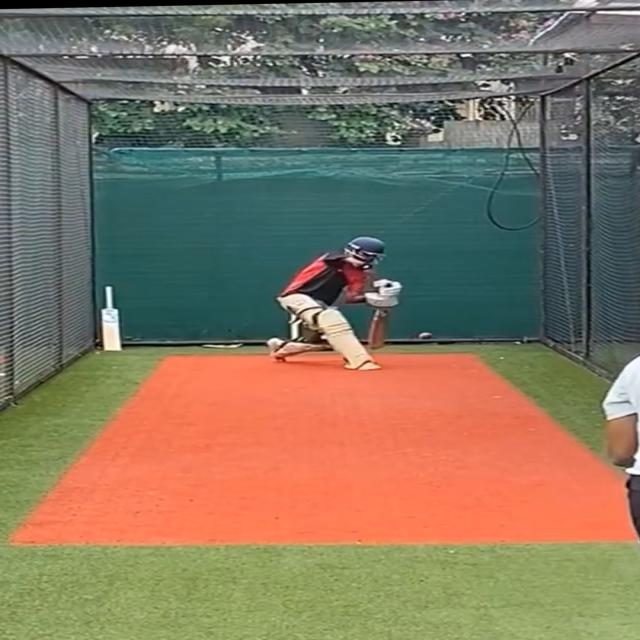ball: (412, 329, 436, 343)
